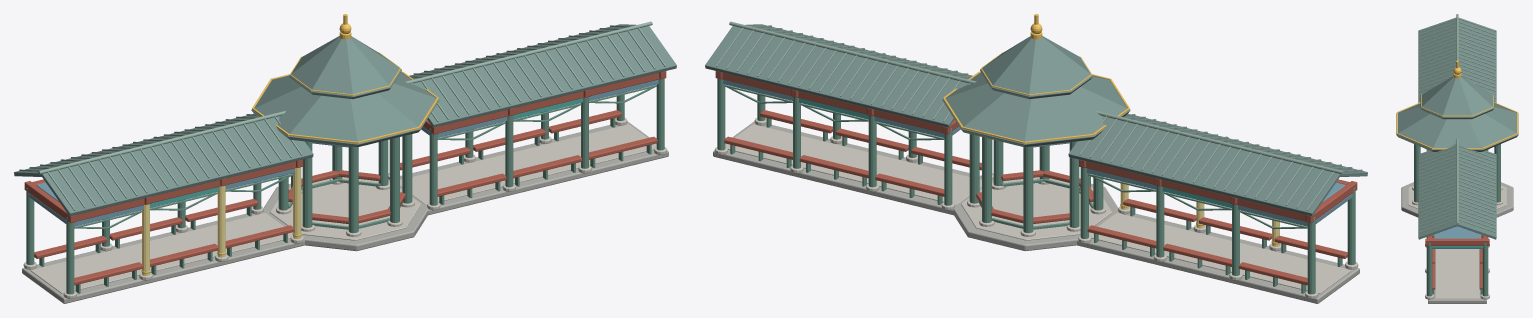
Rendered from LongCorridor_Pavilion_Stylized.fbx.
3 views of the same model, side by side, from view 1: azimuth 30°, elevation 25°; view 2: azimuth 150°, elevation 25°; view 3: azimuth 270°, elevation 25° (orthographic). The views are drawn at different scales.
Parts seen in each view (by area): view 1: Left_GableRoof, Right_GableRoof, Pavilion_LowerRoof, Left_FloorInset, Right_FloorInset, Pavilion_UpperRoof, Pavilion_FloorInset, Left_Floor, Right_Floor, Pavilion_StonePlinth, Left_GableRoof_Ridge, Right_GableRoof_Ridge (+33 smaller); view 2: Left_GableRoof, Right_GableRoof, Pavilion_LowerRoof, Left_FloorInset, Right_FloorInset, Pavilion_UpperRoof, Pavilion_FloorInset, Left_Floor, Right_Floor, Pavilion_StonePlinth, Left_GableRoof_Ridge, Right_GableRoof_Ridge (+33 smaller); view 3: Right_GableRoof, Left_GableRoof, Pavilion_LowerRoof, Pavilion_UpperRoof, Right_FloorInset, Pavilion_StonePlinth, Right_CrossBeam_03, Right_CeilingPanel_02, Right_Pillar_03_0, Right_Pillar_03_1, Right_Floor, Pavilion_Pillar_01 (+7 smaller).
Part boxes in pixels (bbox=[...]): Left_GableRoof: bbox=[14, 113, 313, 216]; Right_GableRoof: bbox=[409, 24, 676, 127]; Pavilion_LowerRoof: bbox=[251, 72, 439, 147]; Left_FloorInset: bbox=[30, 212, 292, 293]; Right_FloorInset: bbox=[400, 124, 656, 204]; Pavilion_UpperRoof: bbox=[289, 36, 401, 99]; Pavilion_FloorInset: bbox=[270, 177, 420, 240]; Left_Floor: bbox=[22, 213, 304, 303]; Right_Floor: bbox=[400, 121, 668, 215]; Pavilion_StonePlinth: bbox=[260, 179, 428, 251]; Left_GableRoof_Ridge: bbox=[38, 111, 285, 174]; Right_GableRoof_Ridge: bbox=[405, 21, 652, 83]; Left_GableRoof: bbox=[1068, 113, 1367, 216]; Right_GableRoof: bbox=[705, 24, 972, 127]; Pavilion_LowerRoof: bbox=[942, 72, 1130, 147]; Left_FloorInset: bbox=[1089, 212, 1351, 293]; Right_FloorInset: bbox=[725, 124, 981, 204]; Pavilion_UpperRoof: bbox=[980, 36, 1092, 99]; Pavilion_FloorInset: bbox=[961, 177, 1111, 240]; Left_Floor: bbox=[1077, 213, 1359, 303]; Right_Floor: bbox=[713, 121, 981, 215]; Pavilion_StonePlinth: bbox=[953, 179, 1121, 251]; Left_GableRoof_Ridge: bbox=[1096, 111, 1343, 174]; Right_GableRoof_Ridge: bbox=[729, 21, 976, 83]; Right_GableRoof: bbox=[1418, 144, 1496, 239]; Left_GableRoof: bbox=[1418, 17, 1496, 102]; Pavilion_LowerRoof: bbox=[1396, 103, 1518, 151]; Pavilion_UpperRoof: bbox=[1420, 76, 1494, 119]; Right_FloorInset: bbox=[1435, 249, 1479, 298]; Pavilion_StonePlinth: bbox=[1401, 182, 1513, 217]; Right_CrossBeam_03: bbox=[1425, 238, 1489, 245]; Right_CeilingPanel_02: bbox=[1434, 226, 1480, 238]; Right_Pillar_03_0: bbox=[1426, 243, 1432, 296]; Right_Pillar_03_1: bbox=[1482, 243, 1488, 296]; Right_Floor: bbox=[1428, 289, 1486, 303]; Pavilion_Pillar_01: bbox=[1494, 144, 1500, 202].
Size of the model in its own units: 20.18 by 6.31 by 5.
